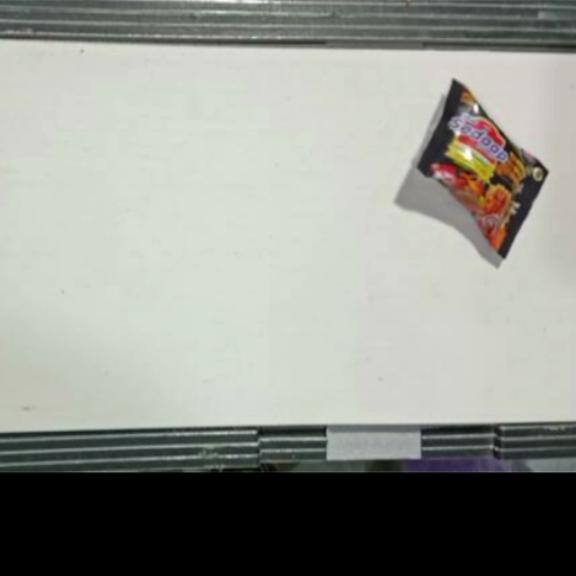Plastik: (417, 79, 551, 260)
